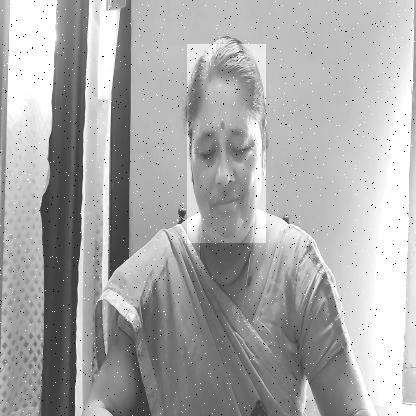Normal: (187, 44, 266, 243)
